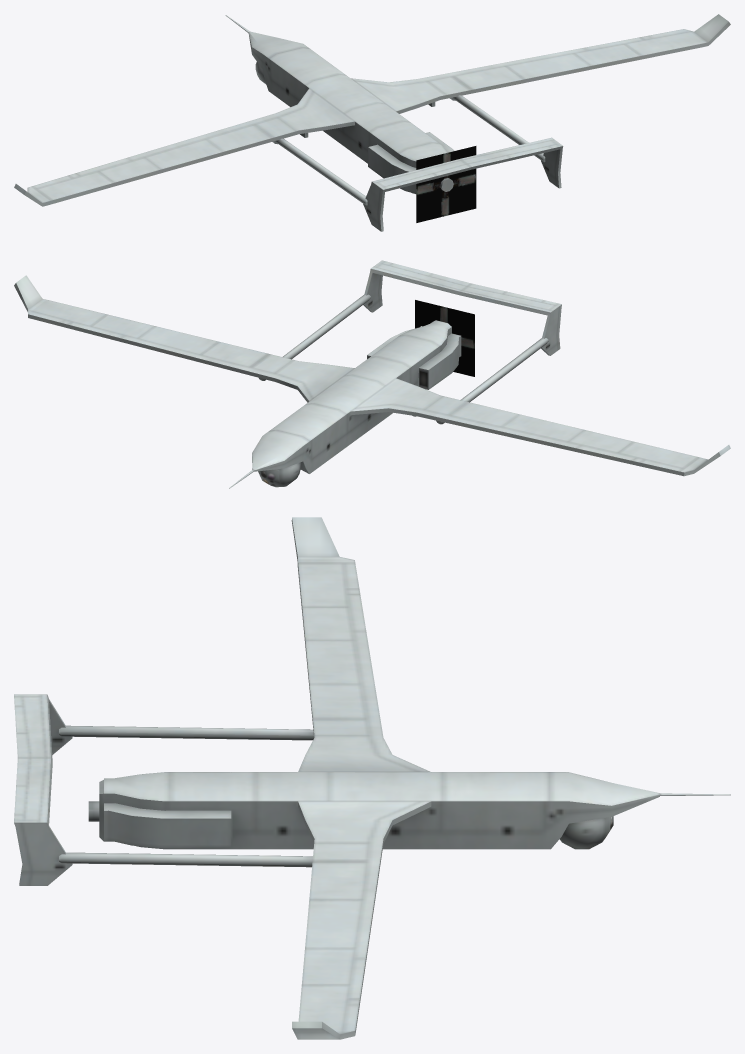
3 renders of one model, top to bottom at view 1: azimuth 30°, elevation 25°; view 2: azimuth 150°, elevation 25°; view 3: azimuth 270°, elevation 25°, orthographic. The views are drawn at different scales.
Parts seen in each view (by area): view 1: hull, propeller; view 2: hull, propeller, part_gimbal; view 3: hull, part_gimbal.
Part boxes in pixels (x1,y1,x2,y2): hull: [14, 14, 730, 231]; propeller: [416, 146, 476, 222]; hull: [14, 260, 730, 488]; propeller: [415, 300, 474, 376]; part_gimbal: [258, 462, 300, 487]; hull: [14, 517, 730, 1039]; part_gimbal: [559, 816, 613, 849].
Bounding box in the file's own units: 4.08 × 2.45 × 0.3736.
Materials: 2 (2 with a texture image).
